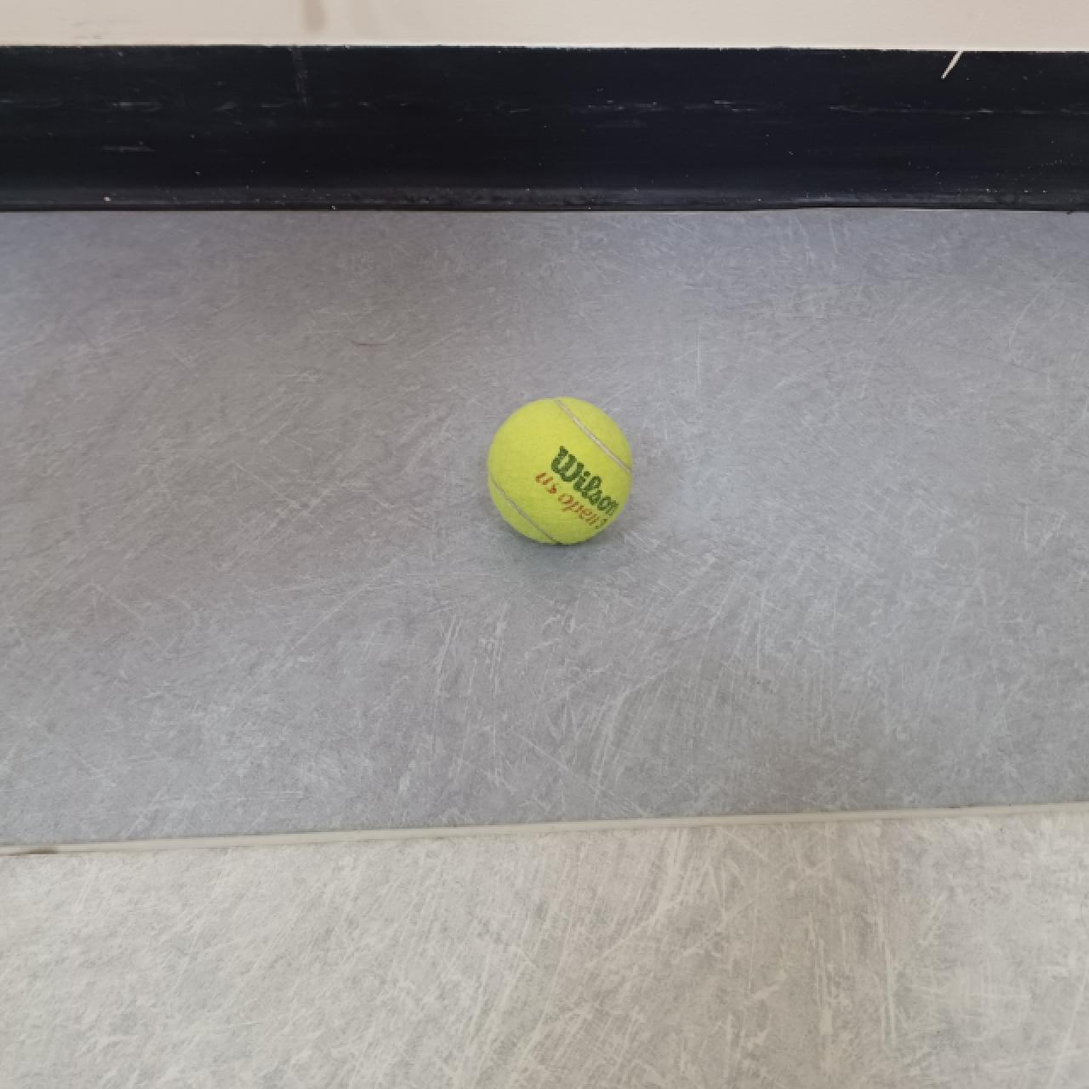tennis-ball: (483, 394, 636, 547)
